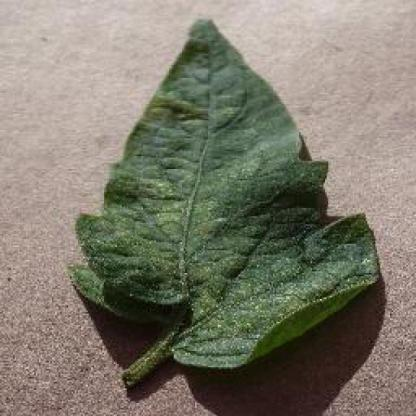Tomato_Spider_Mites: (70, 18, 378, 366)
